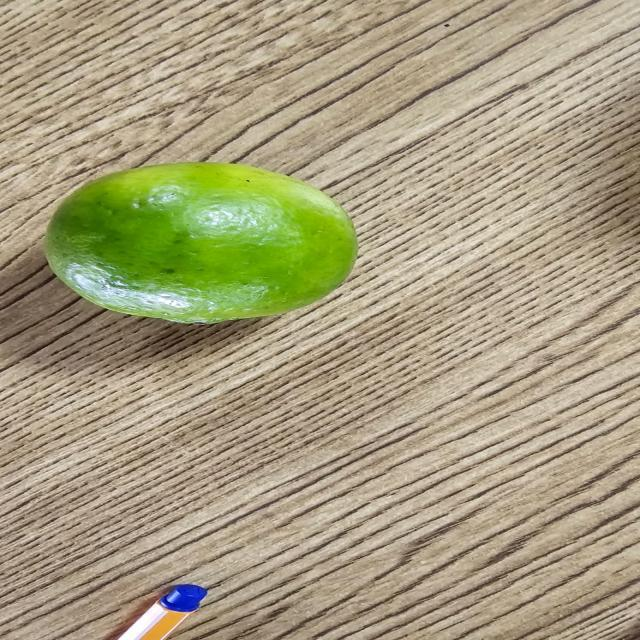Lemon: (19, 146, 397, 331)
